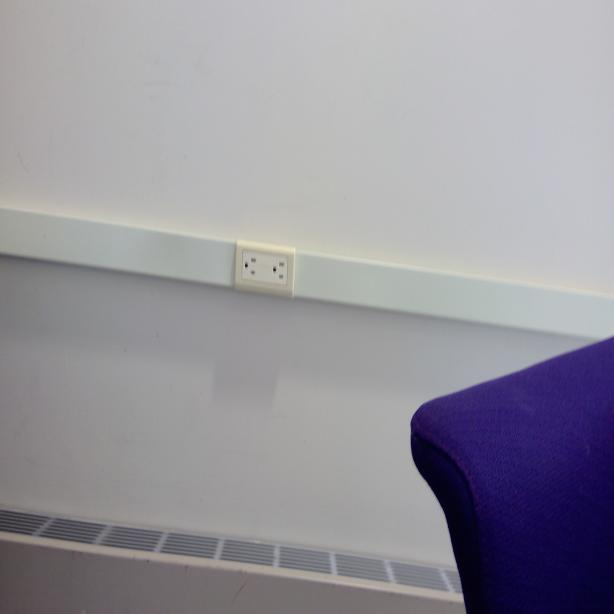typeb: (241, 250, 260, 281), (270, 255, 288, 287)
